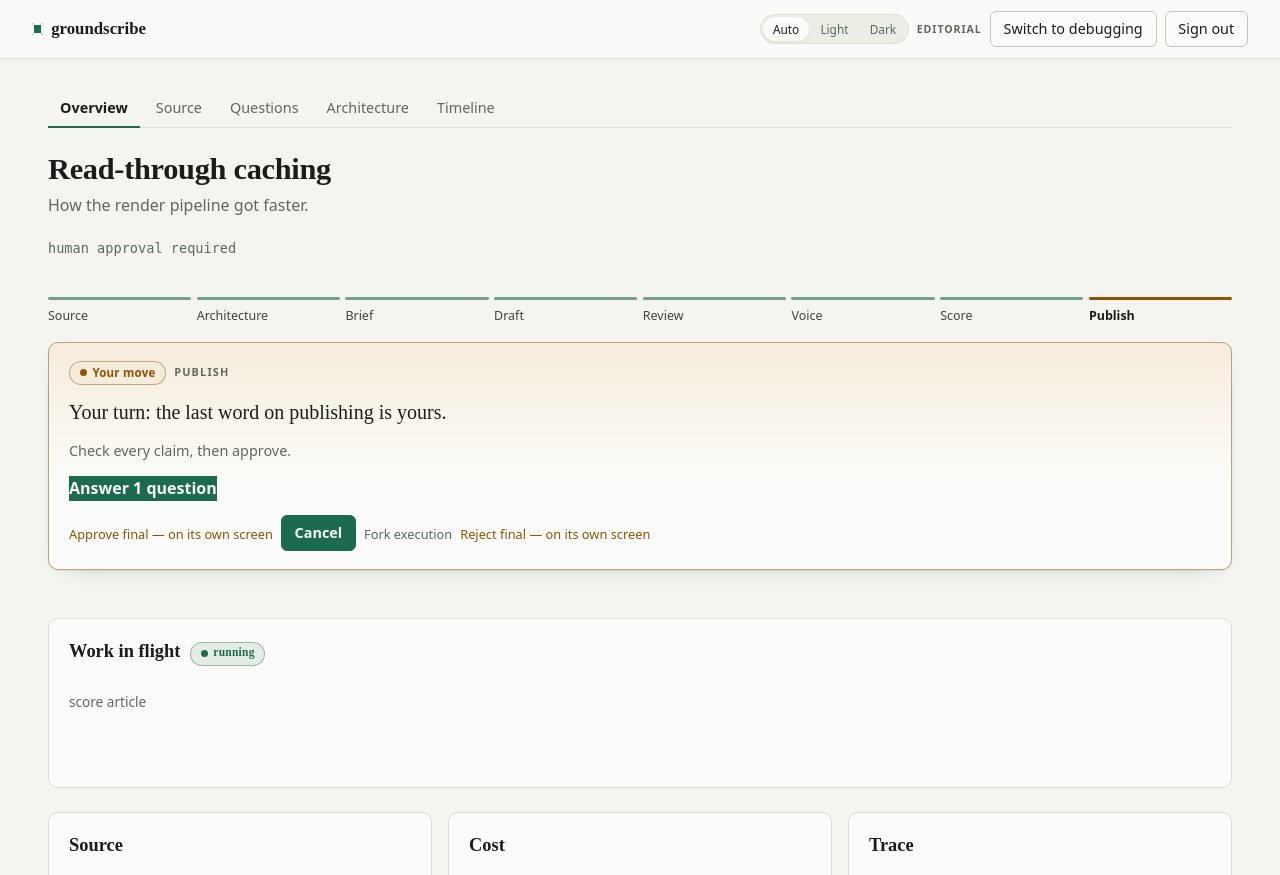
Test: the shell › starts editorial, and opens the payloads when asked to debug
The width and height of the screenshot is (1280, 875).
Expected: the text with test id "mode" reads "editorial", [917, 22, 982, 36]
Click the button "Switch to debugging" at (1073, 29), box [990, 11, 1156, 47]
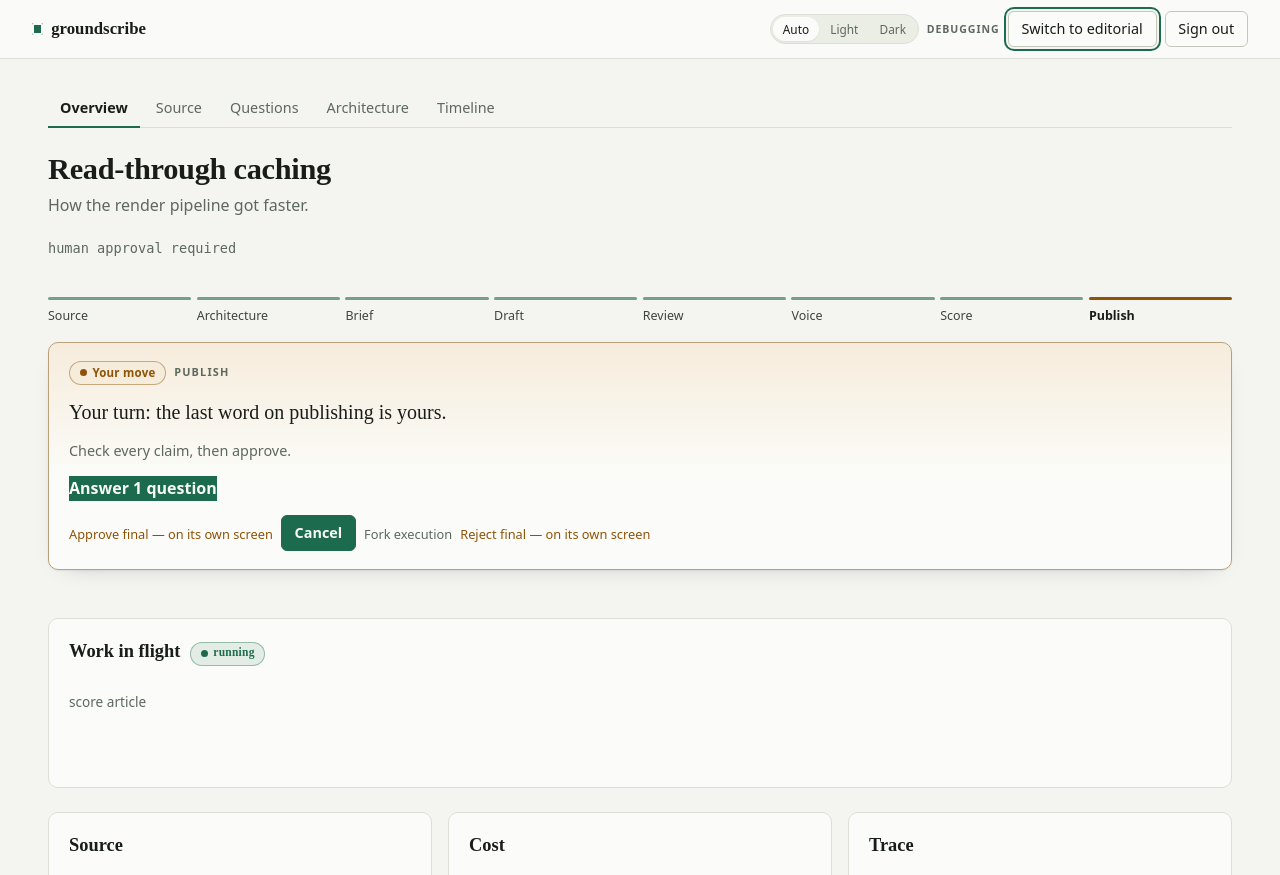
Expected: the text with test id "mode" reads "debugging", [927, 22, 1000, 36]
